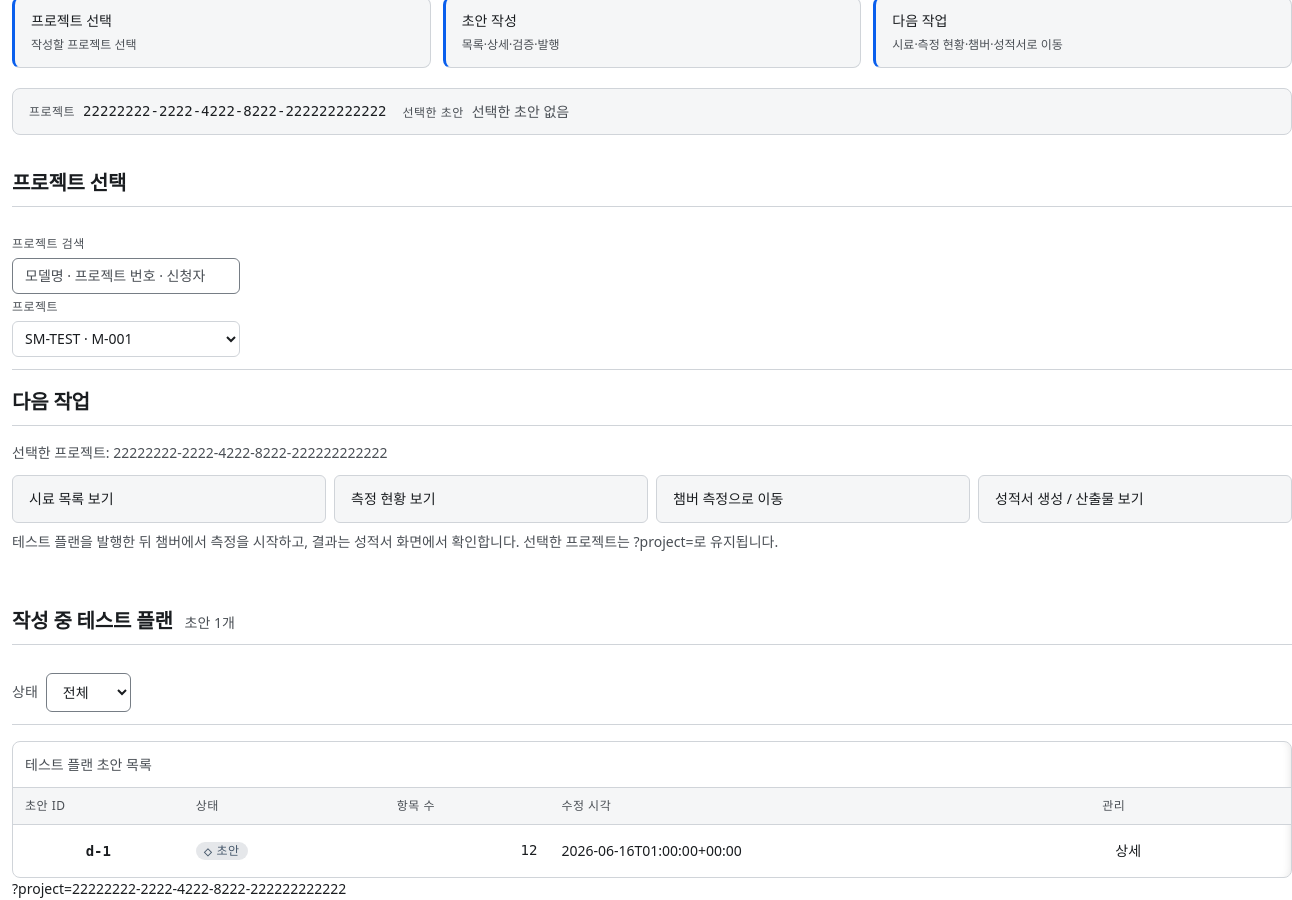
Test: TestPlansRoute › renders the selected draft detail metadata and rows
(page scrolled)
Click the button with test id "test-plans-detail-button".
click(1128, 851)  # box x1=1102 y1=833 x2=1154 y2=869
(page scrolled)
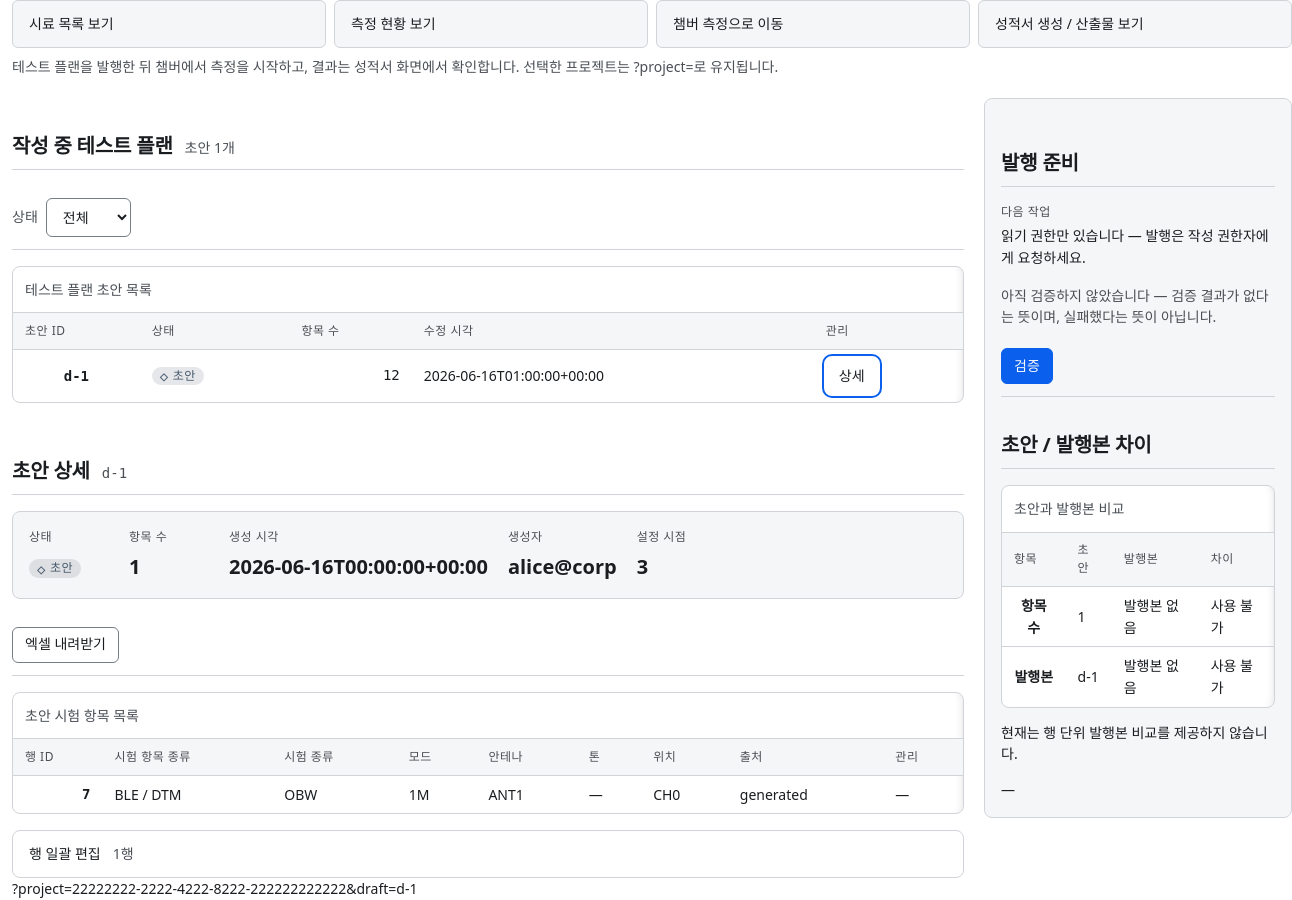
Result: the table with test id "test-plans-detail-table" is shown at x1=13 y1=693 x2=963 y2=814
Result: the text with test id "test-plans-detail-row-count" reads "1" at x1=129 y1=553 x2=140 y2=580
Result: the text "alice@corp" is shown at x1=508 y1=551 x2=617 y2=582
